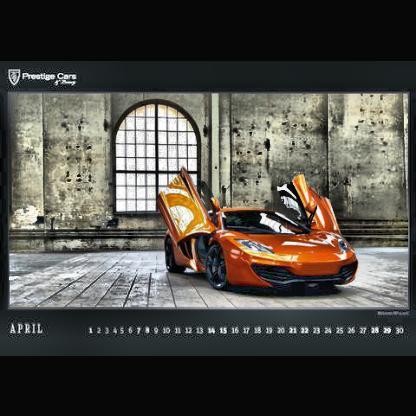McLaren MP4-12C Coupe 2012: (157, 168, 367, 293)
